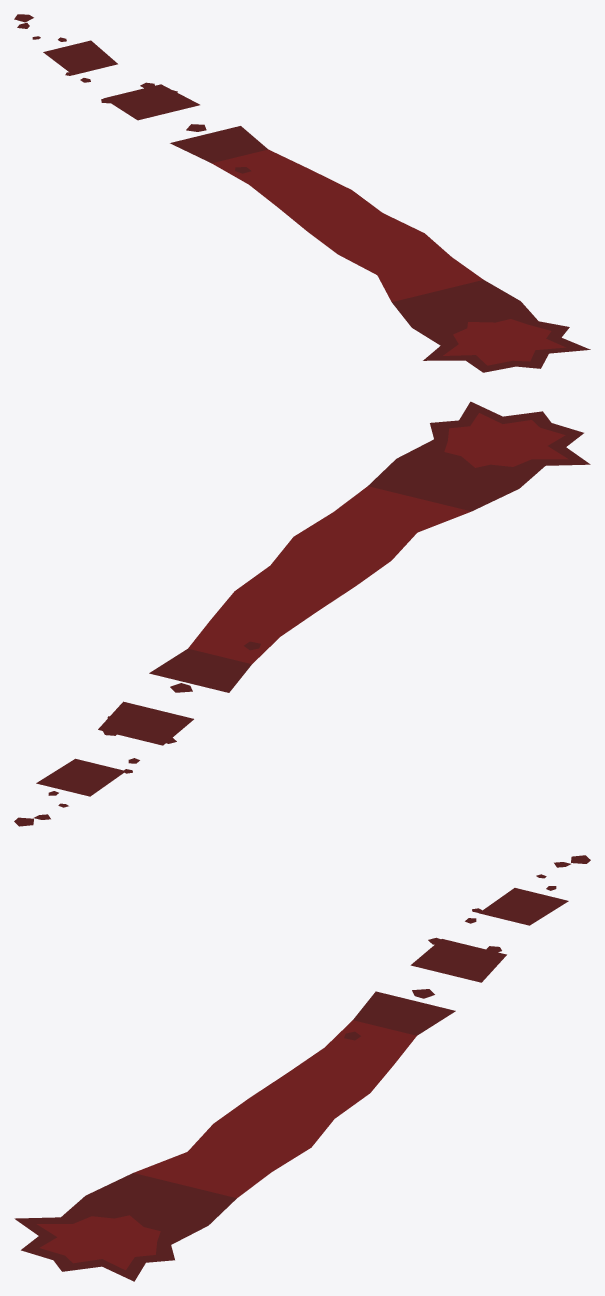
Rendered from blood_trail.glb.
The picture shows the model from 3 angles, top to bottom: view 1: azimuth 30°, elevation 25°; view 2: azimuth 150°, elevation 25°; view 3: azimuth 330°, elevation 25°; orthographic projection. The views are drawn at different scales.
Visible parts, largest first — view 1: Decal; view 2: Decal; view 3: Decal.
Boxes of the visible parts, <box> form: Decal: <box>14,14,590,372</box>; Decal: <box>14,401,590,826</box>; Decal: <box>14,855,590,1281</box>.
Size of the model in its own units: 0.4215 by 0.0033 by 2.48.
